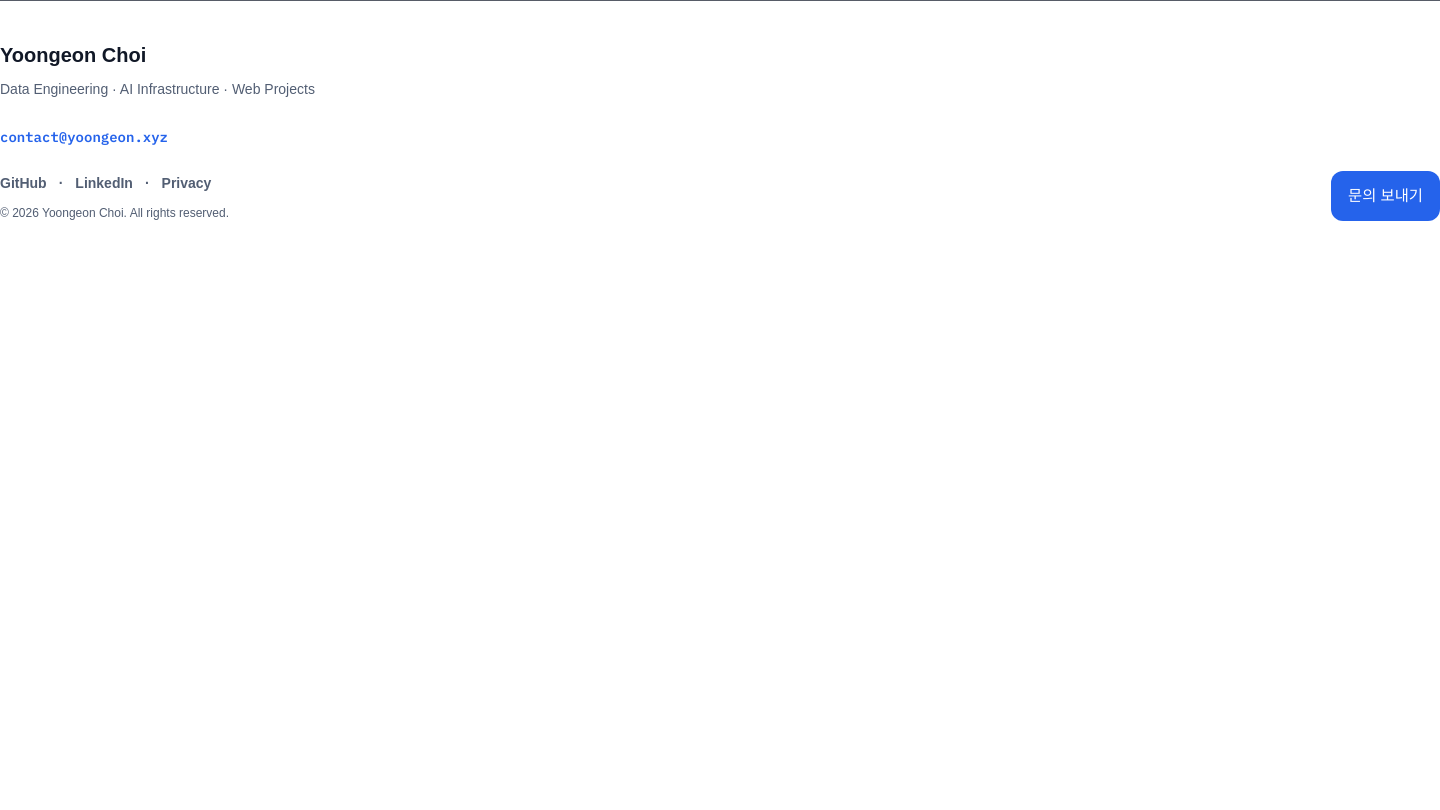
Test case: ContactSection › shows success message and clears the form after submit
Click the button "문의 보내기": coordinates (1386, 196) [1331,171,1439,221]
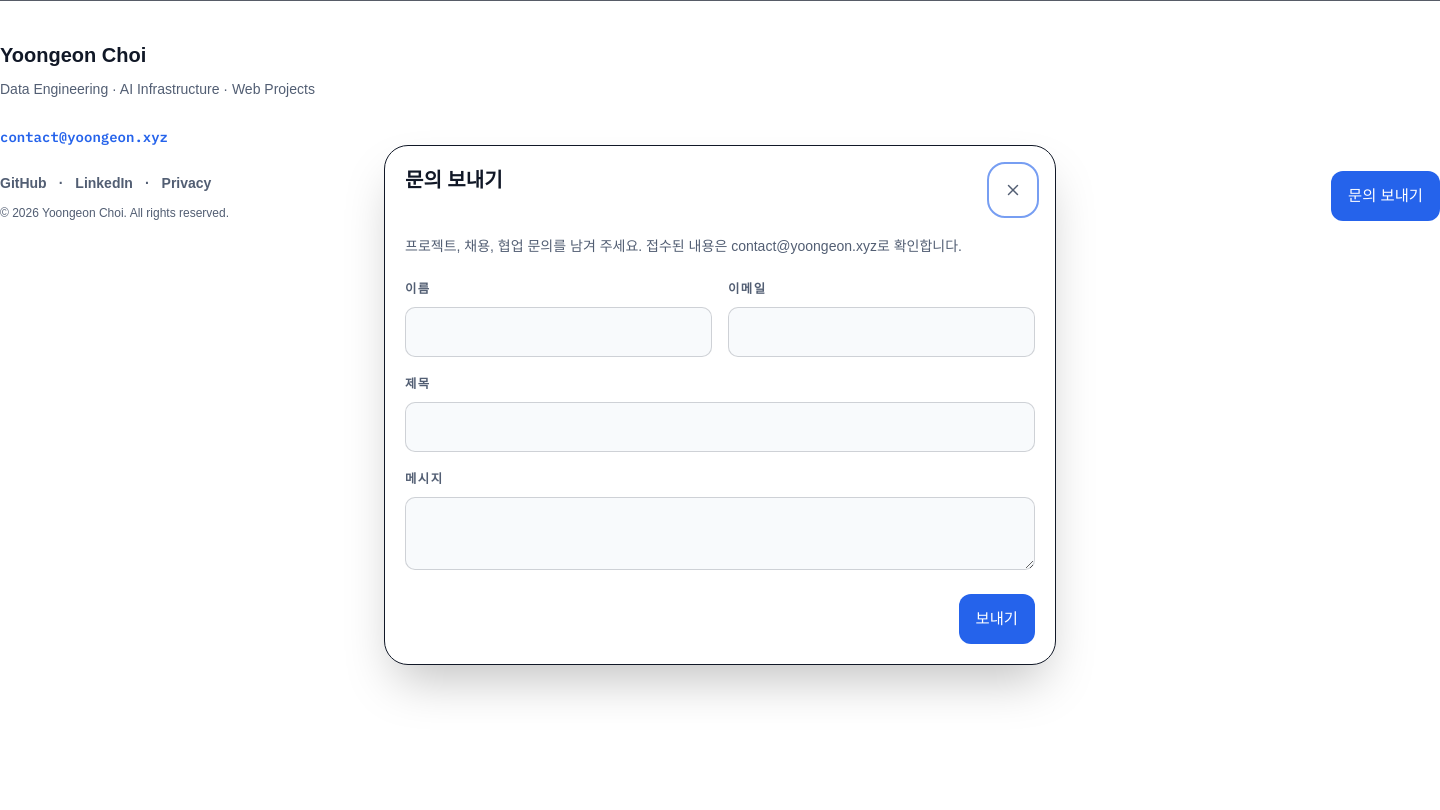
In the field labelled "이름": coordinates (558, 332) [405,307,712,357], type "홍길동"
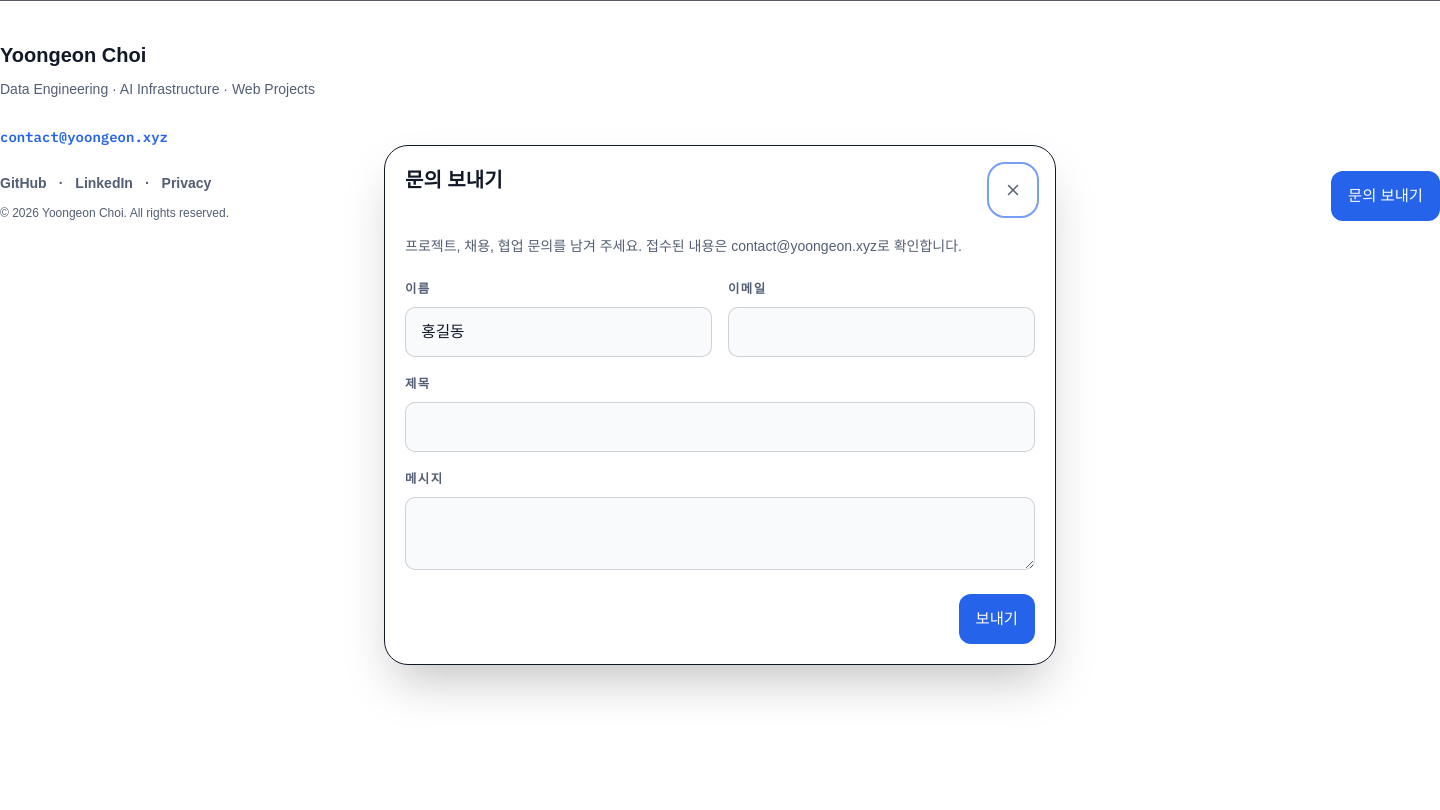
In the field labelled "이메일": coordinates (882, 332) [728,307,1035,357], type "user@example.com"
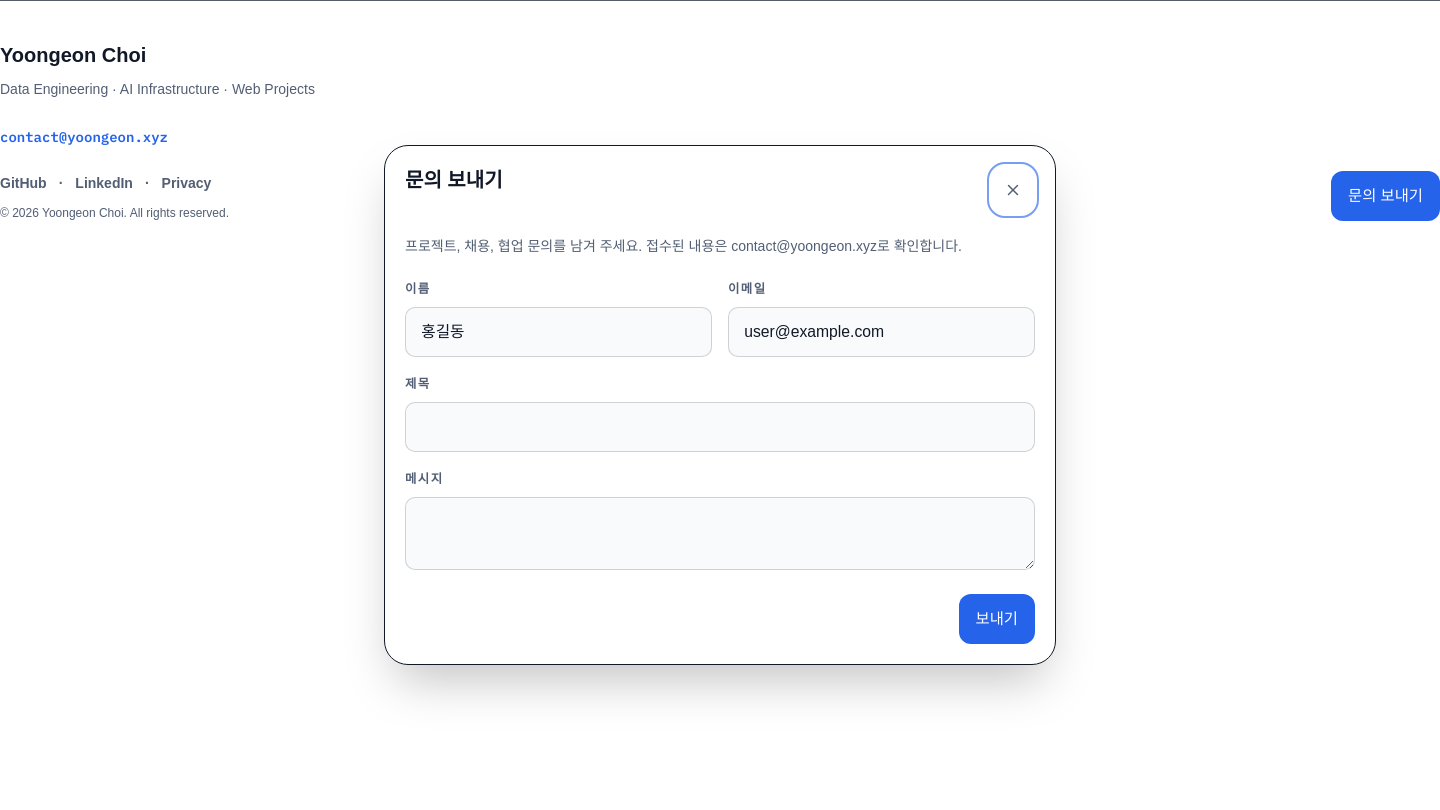
In the field labelled "제목": coordinates (720, 427) [405,402,1035,452], type "협업 문의"
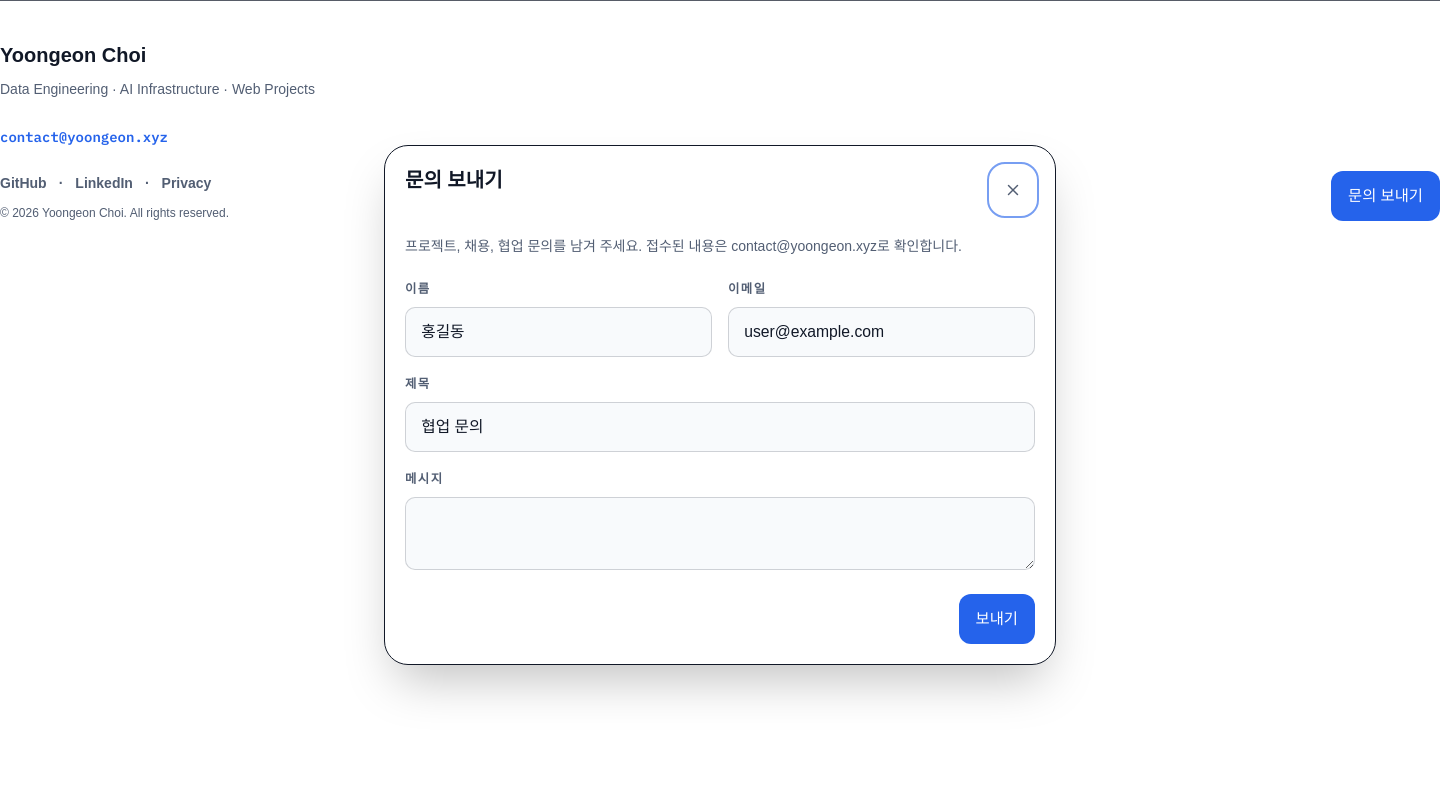
In the text box labelled "메시지": coordinates (720, 534) [405,497,1035,570], type "프로젝트 협업 가능 여부를 문의드립니다."
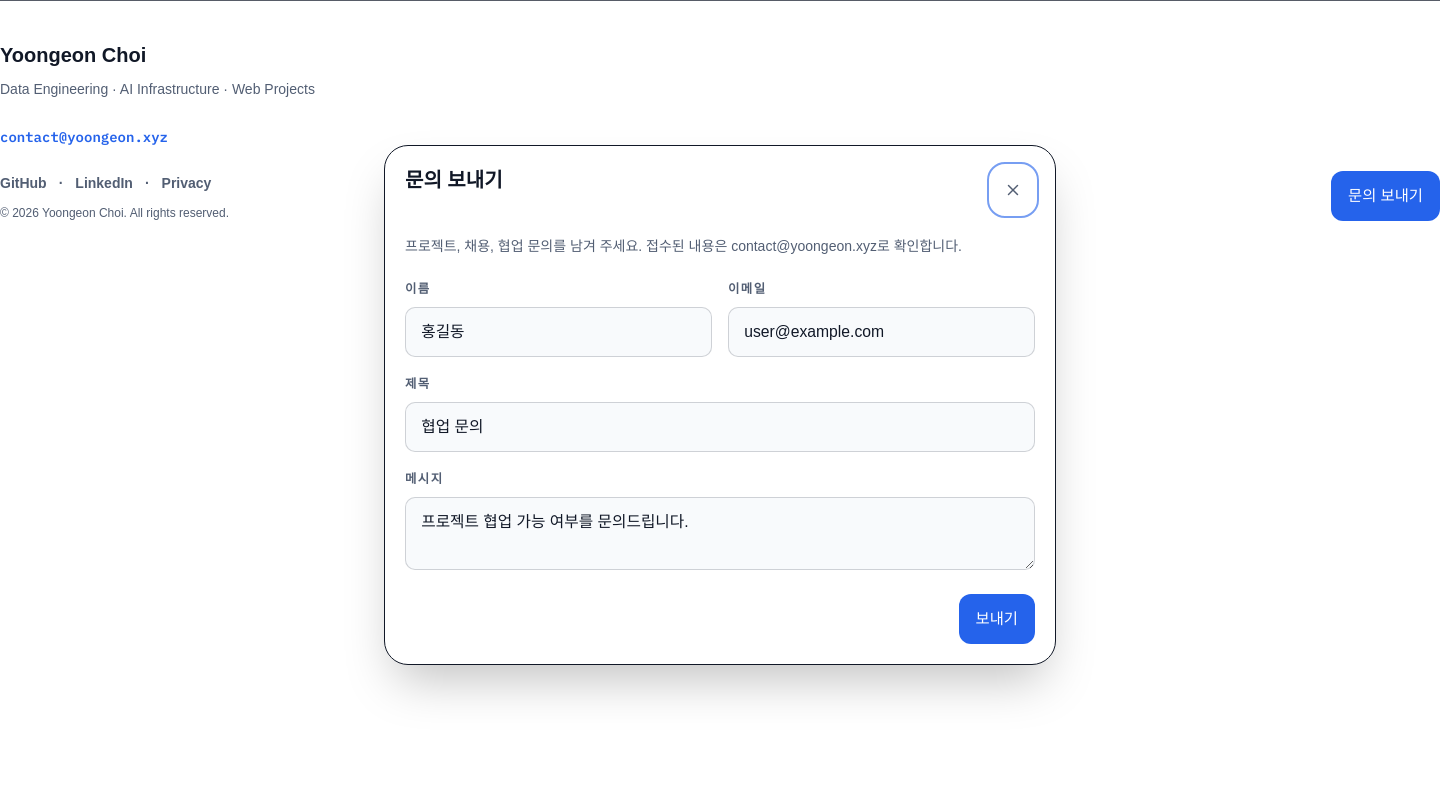
Click the button "보내기": coordinates (997, 619) [959,594,1035,644]
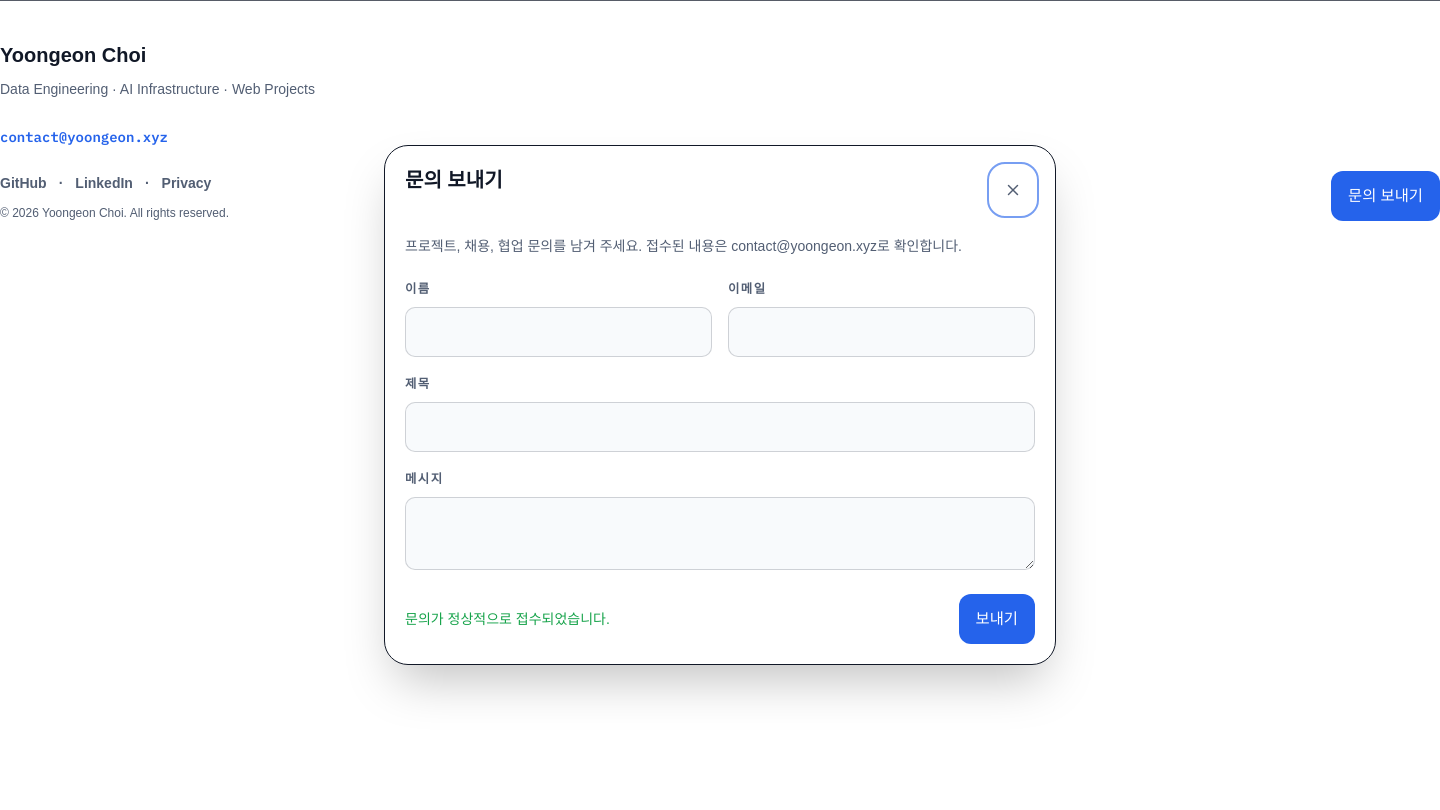
Result: the text "문의가 정상적으로 접수되었습니다." is shown at [405,607,610,631]
Result: the field labelled "이름" is empty at [405,307,712,357]
Result: the field labelled "이메일" is empty at [728,307,1035,357]
